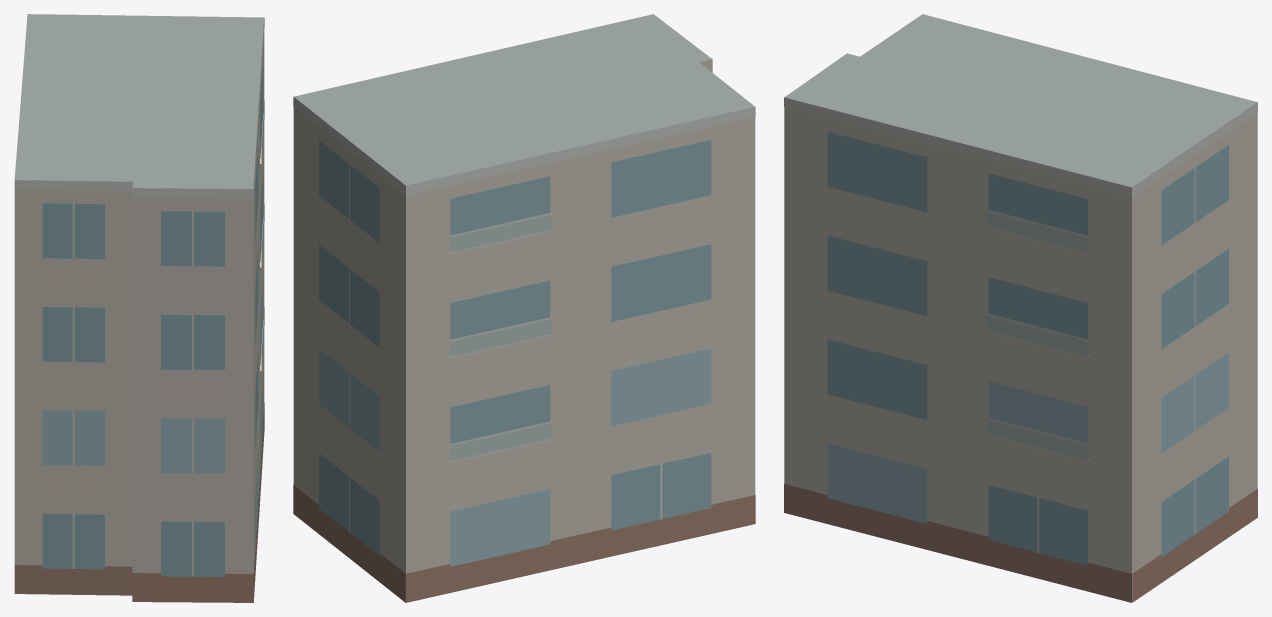
Rendered from survey-upis-33011662.glb.
The picture shows the model from 3 angles, left to right: view 1: azimuth 30°, elevation 25°; view 2: azimuth 150°, elevation 25°; view 3: azimuth 270°, elevation 25°; orthographic projection.
Parts seen in each view (by area): view 1: survey-upis-33011662.tmp; view 2: survey-upis-33011662.tmp; view 3: survey-upis-33011662.tmp.
Part boxes in pixels (x1,y1,x2,y2): survey-upis-33011662.tmp: [14, 14, 264, 602]; survey-upis-33011662.tmp: [293, 14, 755, 602]; survey-upis-33011662.tmp: [784, 14, 1257, 602].
Size of the model in its own units: 9.32 by 10.4 by 10.75.
